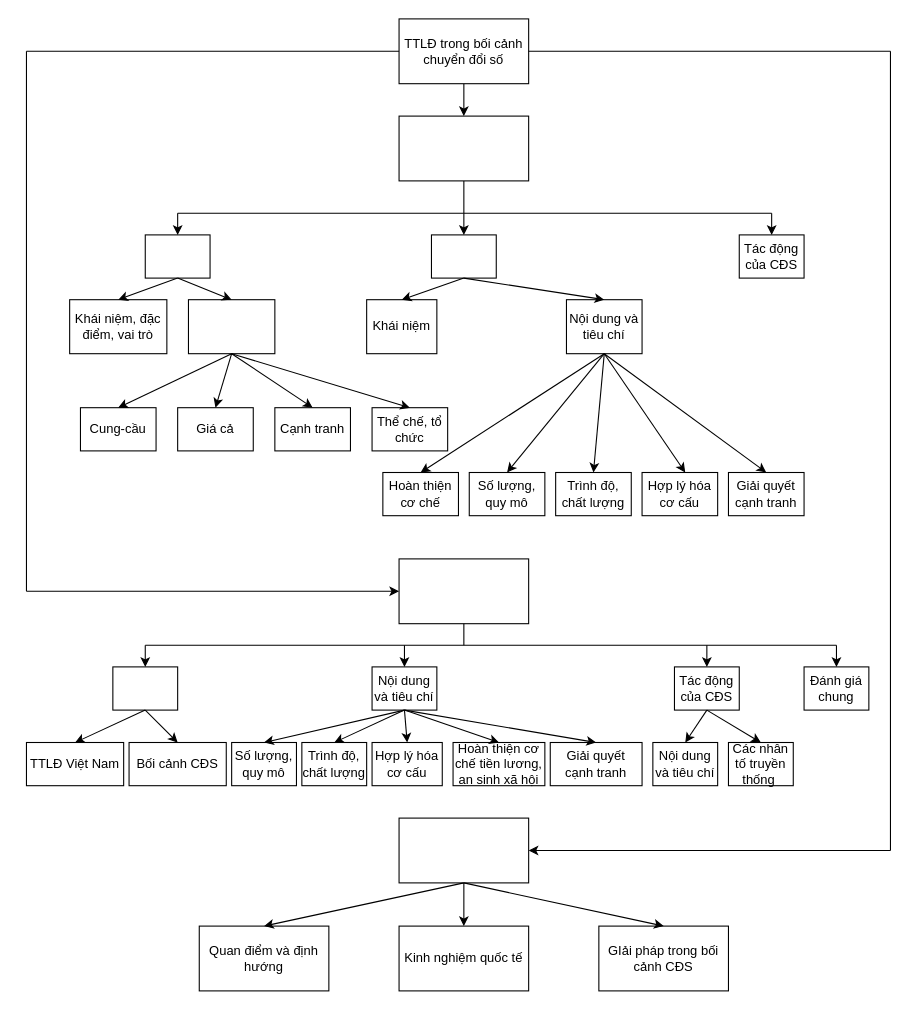
This 918x1010 diagram has some shape labels left out. Each missing label, with the box of its shape:
Các yếu tố cấu thành: (187, 299, 275, 354)
Cơ sở lý luận: (398, 115, 529, 181)
Khái quát: (112, 666, 178, 710)
Phát triển TTLĐ: (430, 234, 496, 278)
TTLĐ: (144, 234, 210, 278)
TTLĐ và CĐS ở Việt Nam hiện nay: (398, 558, 529, 624)
Định hướng và giải pháp: (398, 817, 529, 883)
